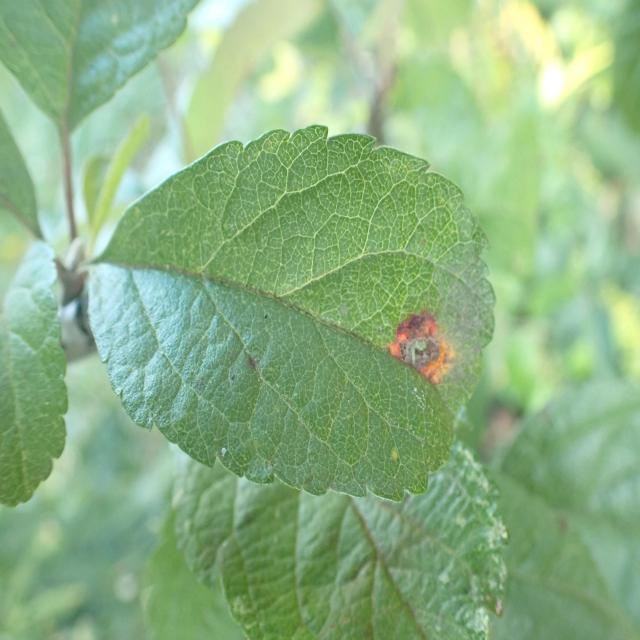Rust: (384, 290, 464, 394)
